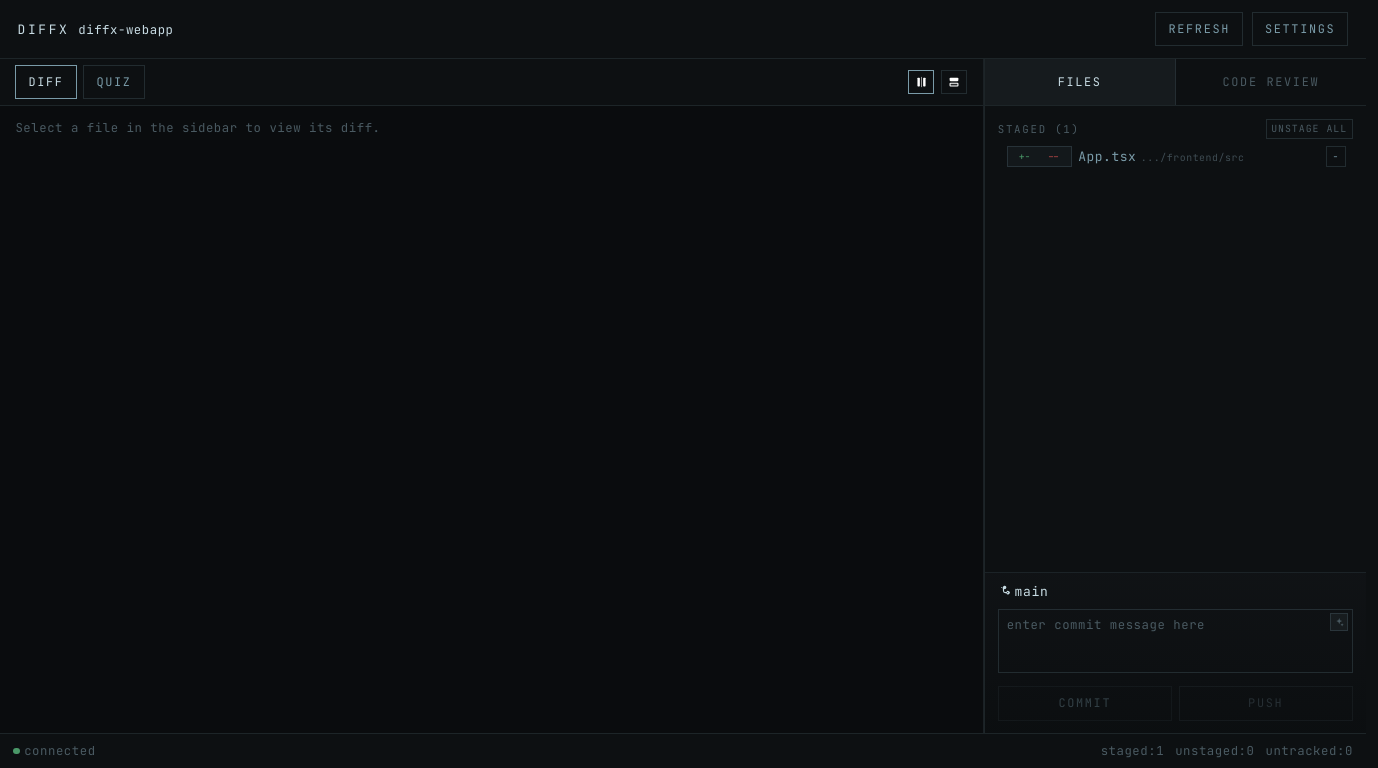
App › generates commit message suggestion from composer icon
What coordinates should you click on to do the following:
click the button named "Generate commit message"
I would click on:
 (1339, 622)
Its box is [1330,613,1348,631].
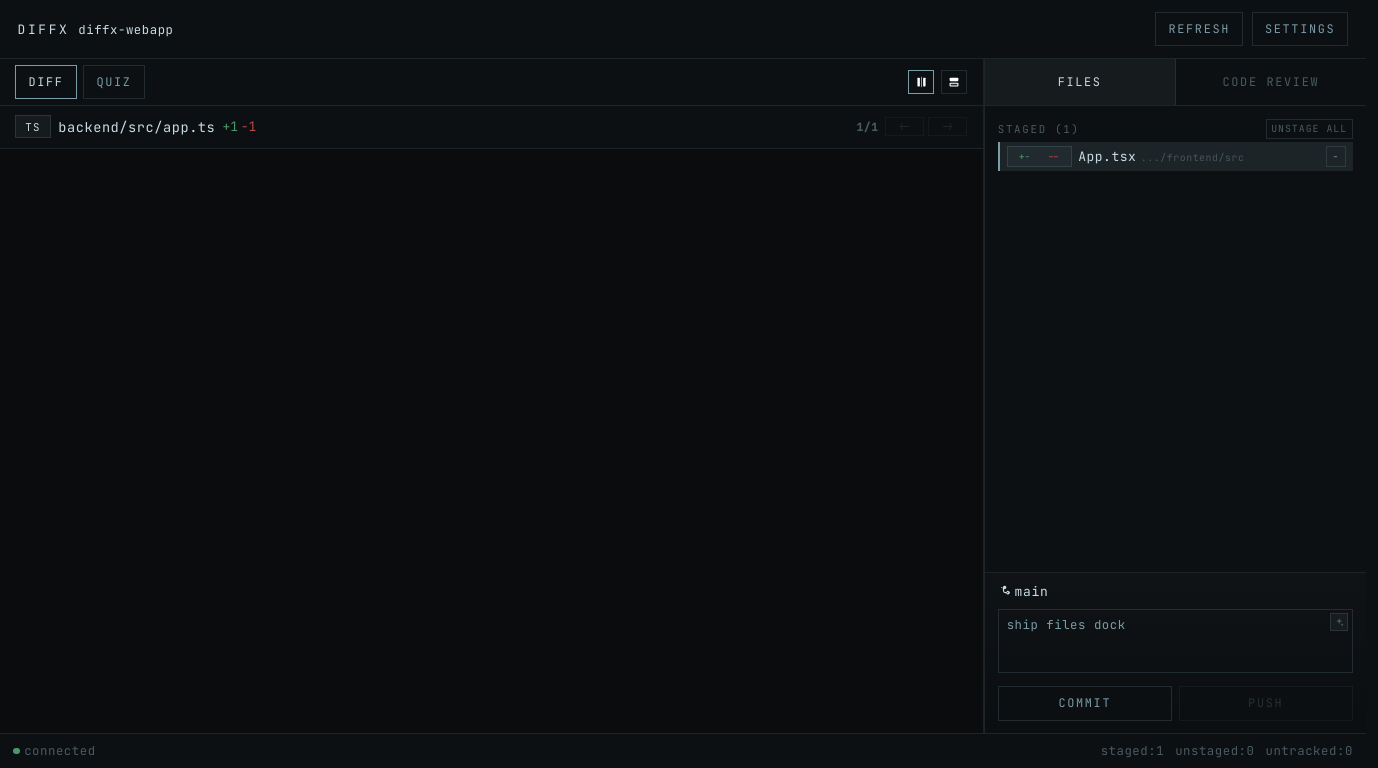
Expected: the text box with placeholder "enter commit message here" holds "ship files dock", [998,608,1353,673]
